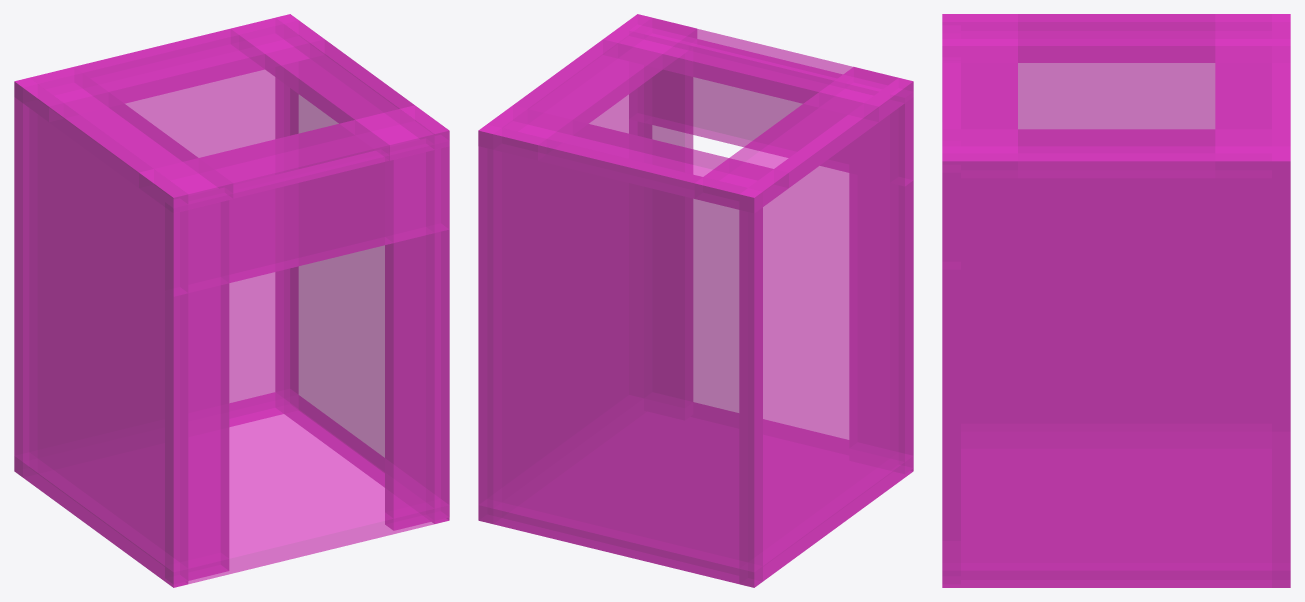
File: SM_Bld_Elevator_Insert_01_Collision.fbx
The picture shows the model from 3 angles, left to right: view 1: azimuth 30°, elevation 25°; view 2: azimuth 150°, elevation 25°; view 3: azimuth 270°, elevation 25°; orthographic projection. The views are drawn at different scales.
Parts seen in each view (by area): view 1: SM_Bld_Elevator_Insert_01_Collision; view 2: SM_Bld_Elevator_Insert_01_Collision; view 3: SM_Bld_Elevator_Insert_01_Collision.
Boxes of the visible parts, x1,y1,x2,y2 form: SM_Bld_Elevator_Insert_01_Collision: [14, 14, 449, 587]; SM_Bld_Elevator_Insert_01_Collision: [478, 14, 913, 587]; SM_Bld_Elevator_Insert_01_Collision: [942, 14, 1290, 587].
Size of the model in its own units: 235 by 317 by 234.
